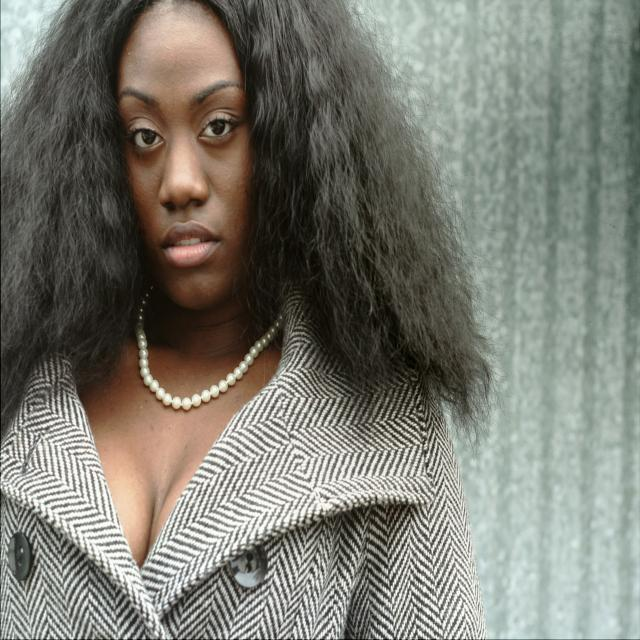sem_oculos: (98, 73, 304, 161)
